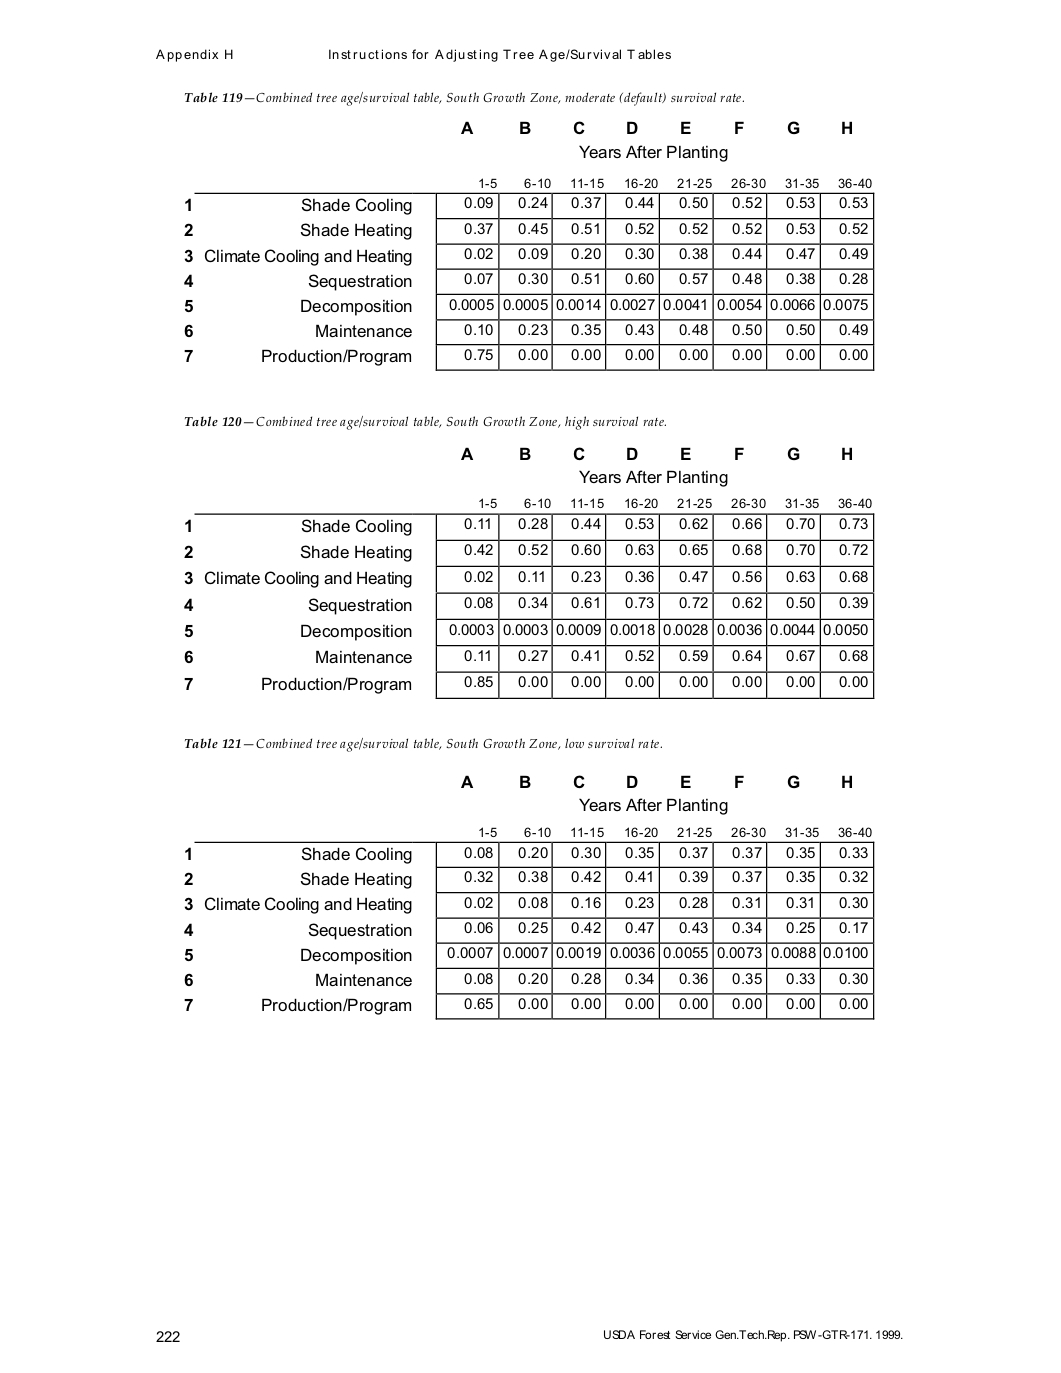Table: (184, 447, 874, 698), (184, 121, 874, 370), (184, 775, 874, 1019)
